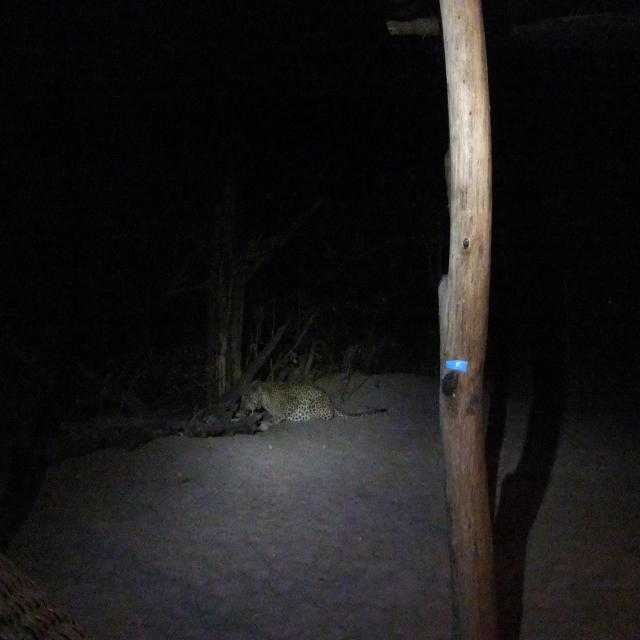Leopard: (239, 381, 389, 444)
